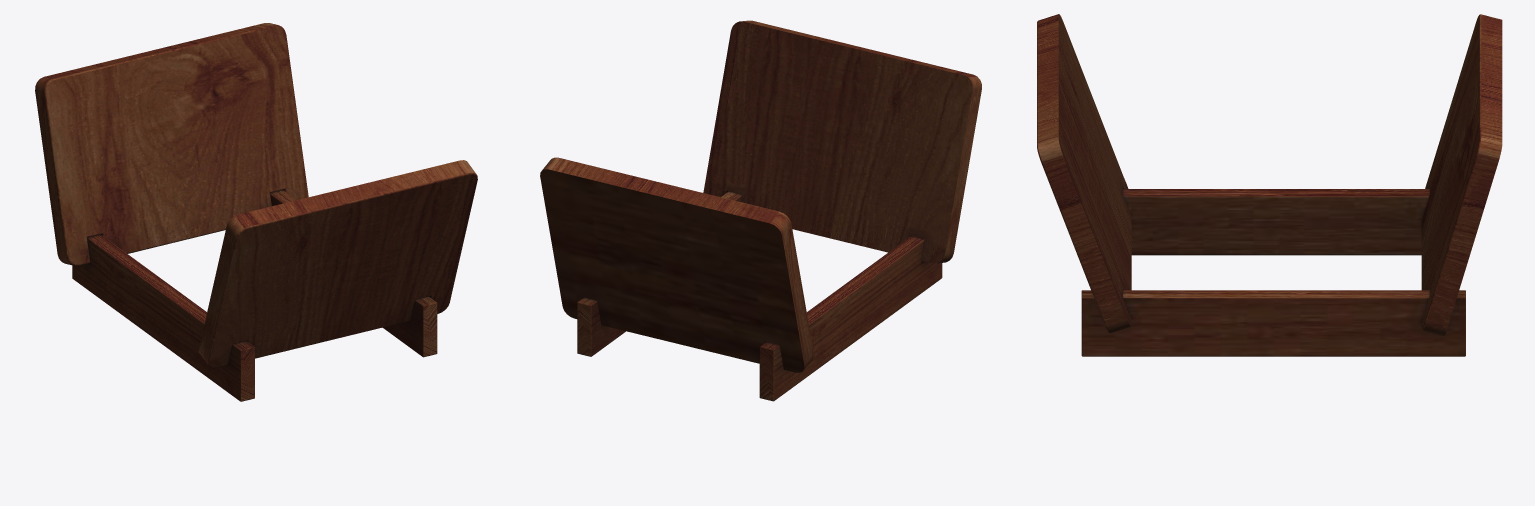
File: groundPlane_01.glb
3 views of the same model, side by side, from view 1: azimuth 30°, elevation 25°; view 2: azimuth 150°, elevation 25°; view 3: azimuth 270°, elevation 25° (orthographic). The views are drawn at different scales.
Parts seen in each view (by area): view 1: holder; view 2: holder; view 3: holder.
Boxes of the visible parts, box(x1,y1,x2,y2) form: holder: box(35, 23, 477, 401); holder: box(540, 20, 981, 401); holder: box(1037, 14, 1502, 356).
Size of what is drawn, in the model's own units: 0.3703 by 0.2896 by 0.4033.
Materials: 2 (1 with a texture image).
